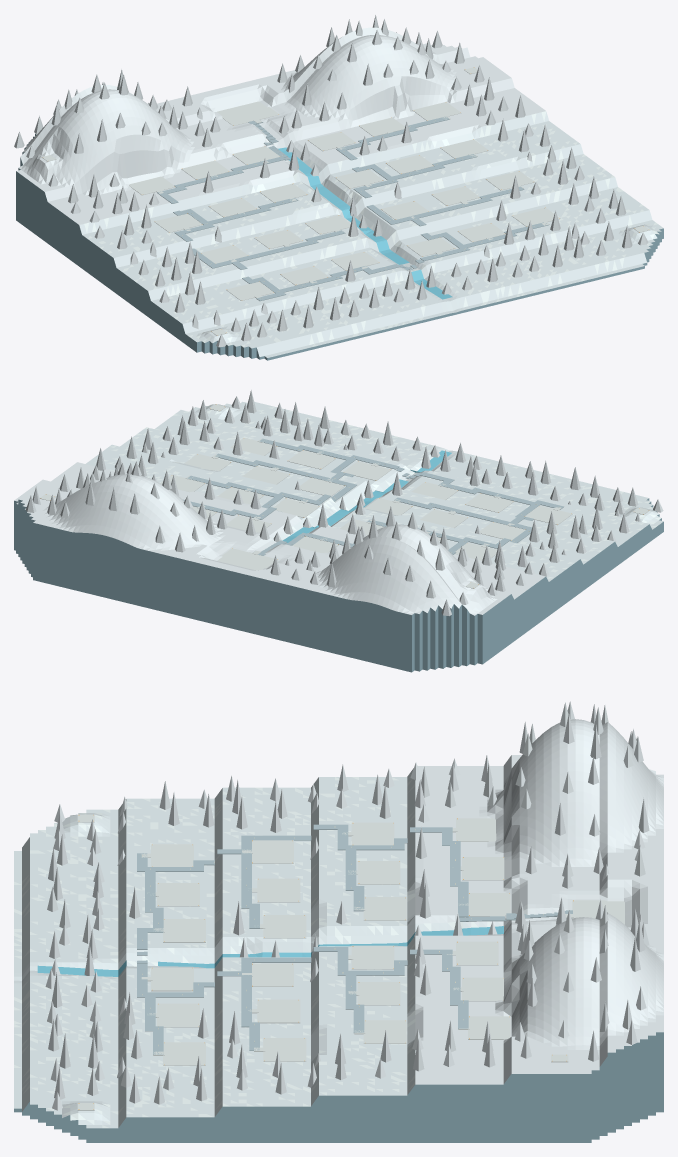
File: ground.glb
The picture shows the model from 3 angles, top to bottom: view 1: azimuth 30°, elevation 25°; view 2: azimuth 150°, elevation 25°; view 3: azimuth 270°, elevation 25°; orthographic projection. The views are drawn at different scales.
Visible parts, largest first — view 1: planet_ice__Terrain, planet_ice__Roads, planet_ice__Decoration; view 2: planet_ice__Terrain, planet_ice__Decoration, planet_ice__Roads; view 3: planet_ice__Terrain, planet_ice__Roads, planet_ice__Decoration.
Part boxes in pixels (x1=…): planet_ice__Terrain: x1=16, y1=27, x2=663, y2=360; planet_ice__Roads: x1=41, y1=67, x2=649, y2=335; planet_ice__Decoration: x1=14, y1=15, x2=648, y2=347; planet_ice__Terrain: x1=14, y1=401, x2=663, y2=672; planet_ice__Decoration: x1=26, y1=390, x2=663, y2=616; planet_ice__Roads: x1=40, y1=404, x2=649, y2=588; planet_ice__Terrain: x1=14, y1=719, x2=663, y2=1142; planet_ice__Roads: x1=77, y1=814, x2=624, y2=1110; planet_ice__Decoration: x1=45, y1=701, x2=649, y2=1110.
Size of the model in its own units: 188 by 49.28 by 162.
